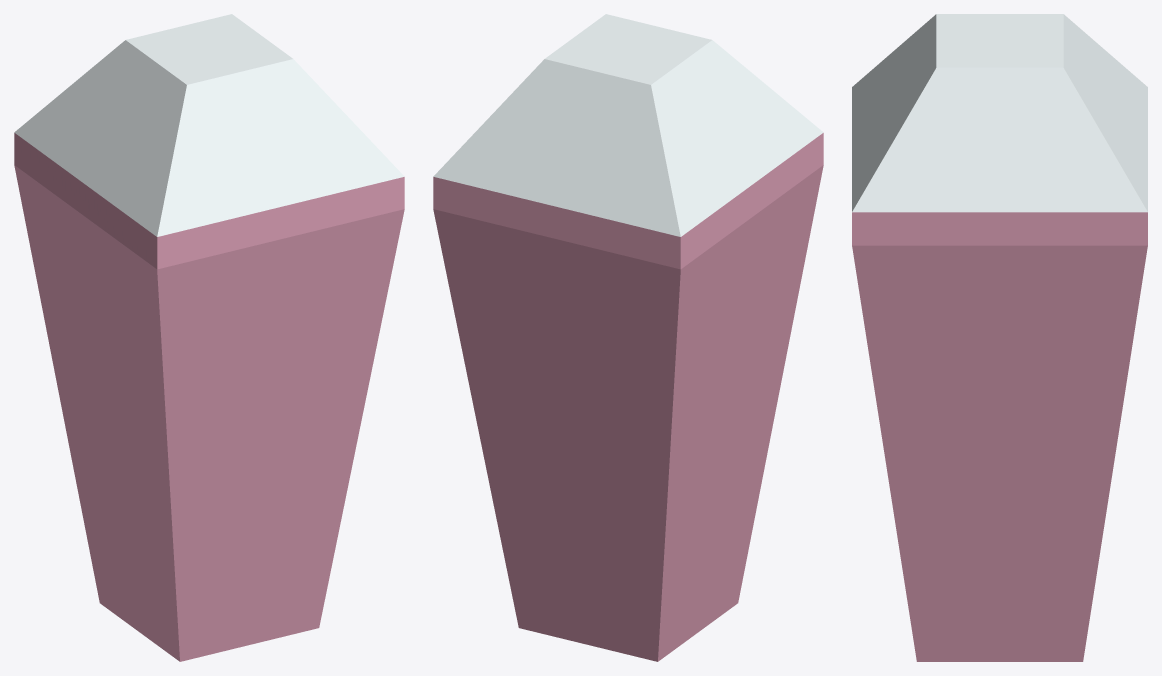
The model's file is snow_detail_crystal.glb.
3 views of the same model, side by side, from view 1: azimuth 30°, elevation 25°; view 2: azimuth 150°, elevation 25°; view 3: azimuth 270°, elevation 25° (orthographic). The views are drawn at different scales.
Parts seen in each view (by area): view 1: snow_detail_crystal; view 2: snow_detail_crystal; view 3: snow_detail_crystal.
Part boxes in pixels (bbox=[...]): snow_detail_crystal: bbox=[14, 14, 404, 661]; snow_detail_crystal: bbox=[433, 14, 823, 661]; snow_detail_crystal: bbox=[852, 14, 1147, 661].
Bounding box in the file's own units: 0.1602 × 0.35 × 0.1602.
